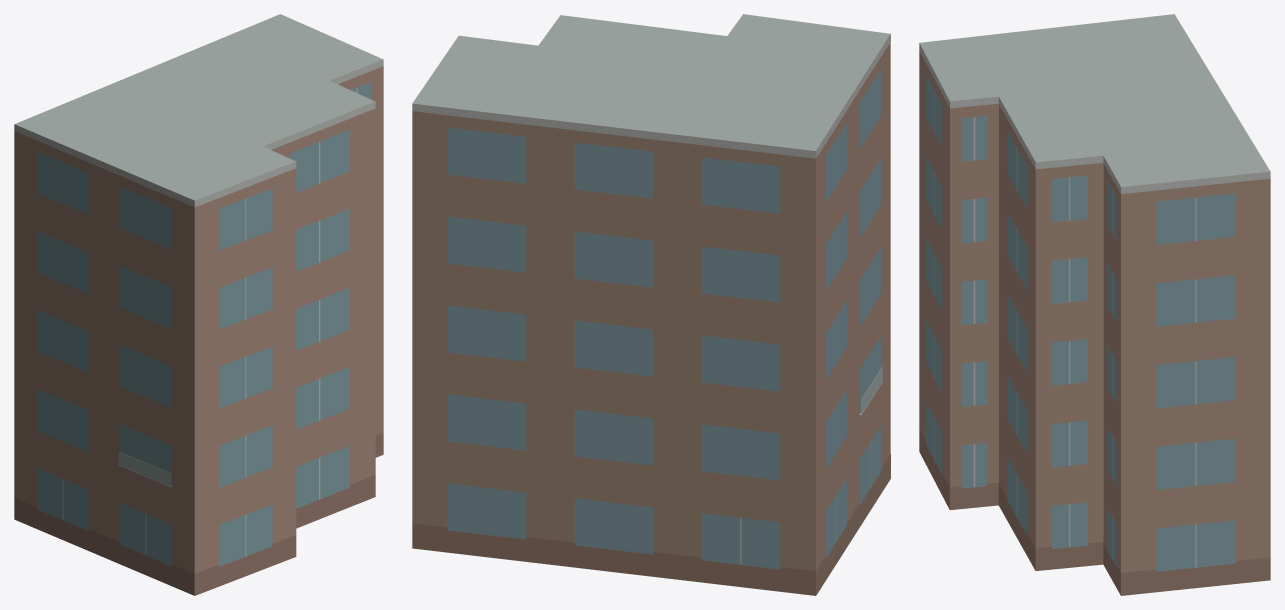
Rendered from survey-upis-32717070.glb.
The picture shows the model from 3 angles, left to right: view 1: azimuth 30°, elevation 25°; view 2: azimuth 150°, elevation 25°; view 3: azimuth 270°, elevation 25°; orthographic projection. The views are drawn at different scales.
Visible parts, largest first — view 1: survey-upis-32717070.tmp; view 2: survey-upis-32717070.tmp; view 3: survey-upis-32717070.tmp.
Boxes of the visible parts, x1,y1,x2,y2 form: survey-upis-32717070.tmp: (14,14,383,595); survey-upis-32717070.tmp: (412,14,890,595); survey-upis-32717070.tmp: (919,14,1270,595).
Bounding box in the file's own units: 13.06 × 14.35 × 11.19.
